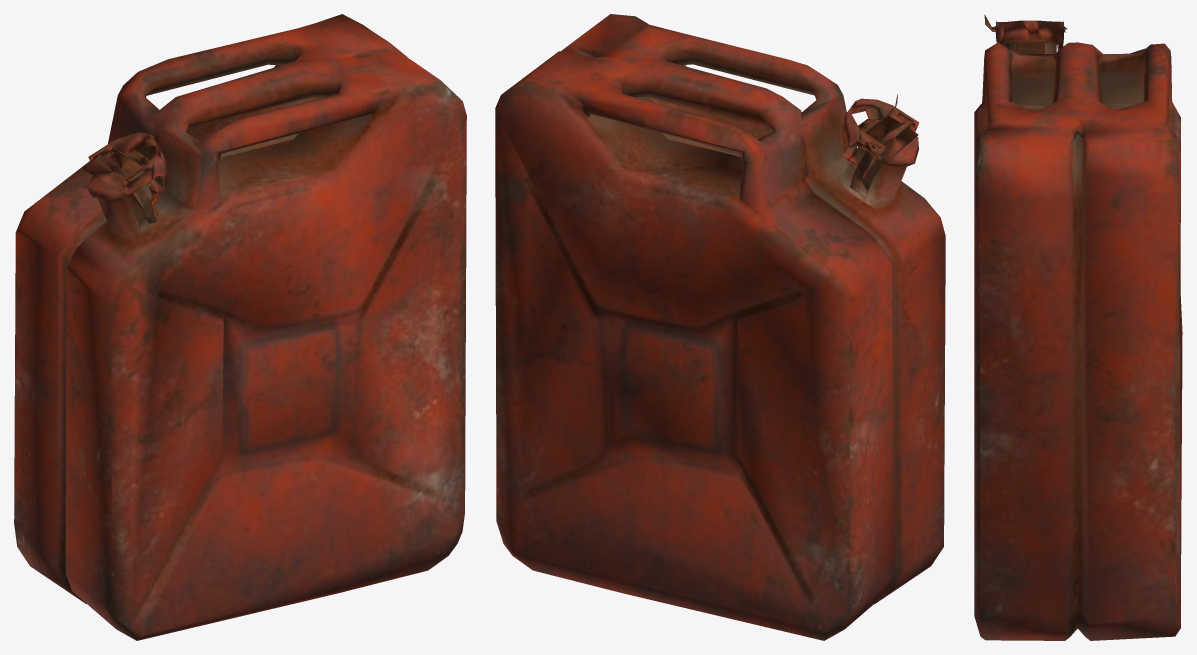
The model's file is jerrycan.glb.
3 renders of one model, left to right at view 1: azimuth 30°, elevation 25°; view 2: azimuth 150°, elevation 25°; view 3: azimuth 270°, elevation 25°, orthographic. The views are drawn at different scales.
Visible parts, largest first — view 1: metal_jerrycan; view 2: metal_jerrycan; view 3: metal_jerrycan.
Boxes of the visible parts, <box> form: metal_jerrycan: <box>14,14,466,640</box>; metal_jerrycan: <box>495,14,945,640</box>; metal_jerrycan: <box>974,14,1182,640</box>.
Bounding box in the file's own units: 0.3481 × 0.4535 × 0.1704.
1 material, 1 textured.
